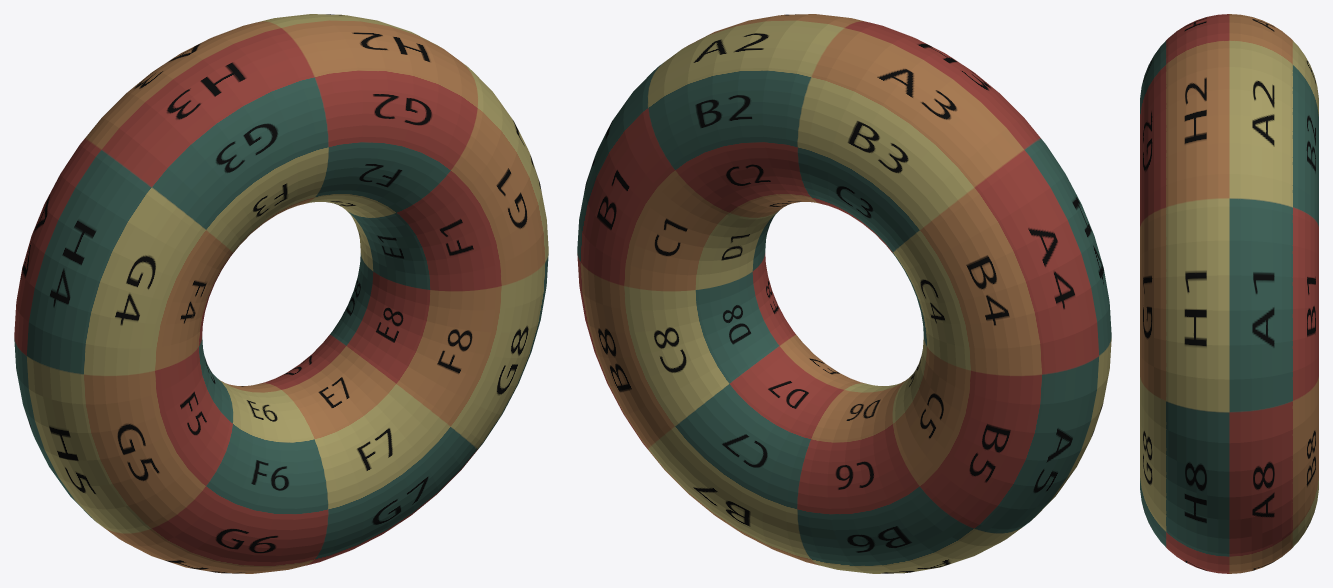
The model's file is texture_torus_R5_r16.glb.
3 renders of one model, left to right at view 1: azimuth 30°, elevation 25°; view 2: azimuth 150°, elevation 25°; view 3: azimuth 270°, elevation 25°, orthographic. The views are drawn at different scales.
Visible parts, largest first — view 1: world; view 2: world; view 3: world.
Part boxes in pixels (x1,y1,x2,y2): world: [14, 14, 548, 573]; world: [577, 14, 1111, 573]; world: [1140, 14, 1318, 573].
Bounding box in the file's own units: 19.6 × 19.56 × 6.25.
1 material, 1 textured.
